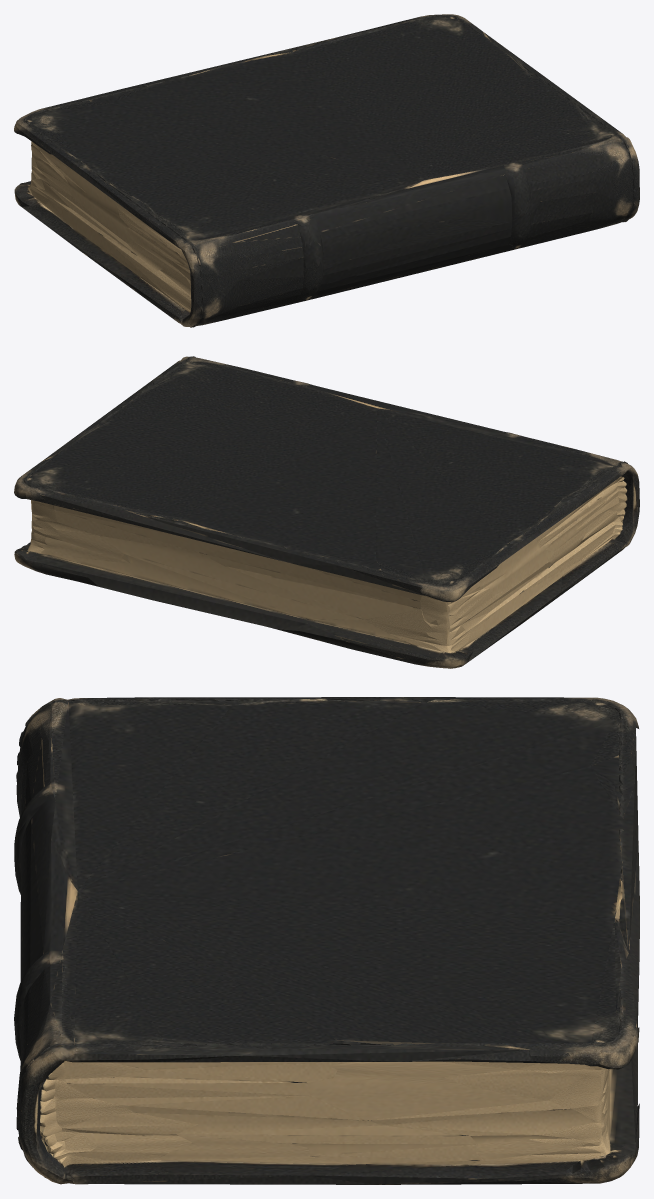
Rendered from prop_black_book.glb.
3 views of the same model, one above another, from view 1: azimuth 30°, elevation 25°; view 2: azimuth 150°, elevation 25°; view 3: azimuth 270°, elevation 25° (orthographic). The views are drawn at different scales.
Visible parts, largest first — view 1: Mesh_0; view 2: Mesh_0; view 3: Mesh_0.
Boxes of the visible parts, x1,y1,x2,y2 form: Mesh_0: (14, 14, 639, 327); Mesh_0: (14, 356, 639, 668); Mesh_0: (14, 697, 639, 1184).
Bounding box in the file's own units: 1.9 × 0.3496 × 1.41.
Materials: 1 (1 with a texture image).
